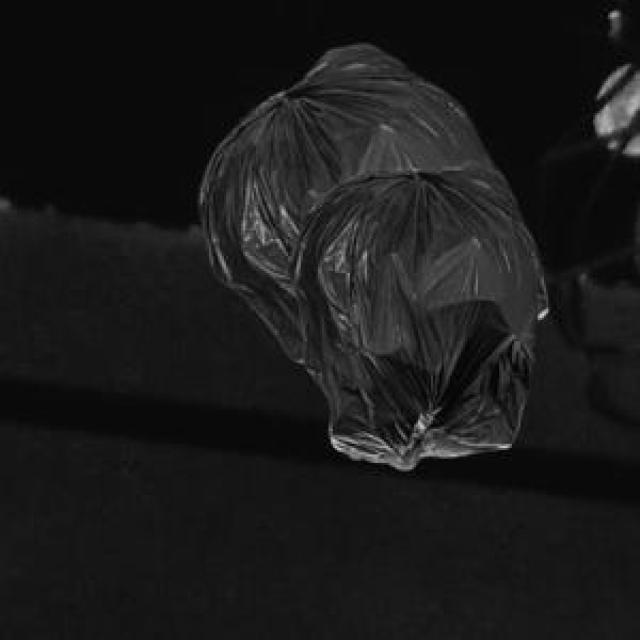miscellaneous trash: (194, 41, 544, 358), (284, 158, 536, 465)
